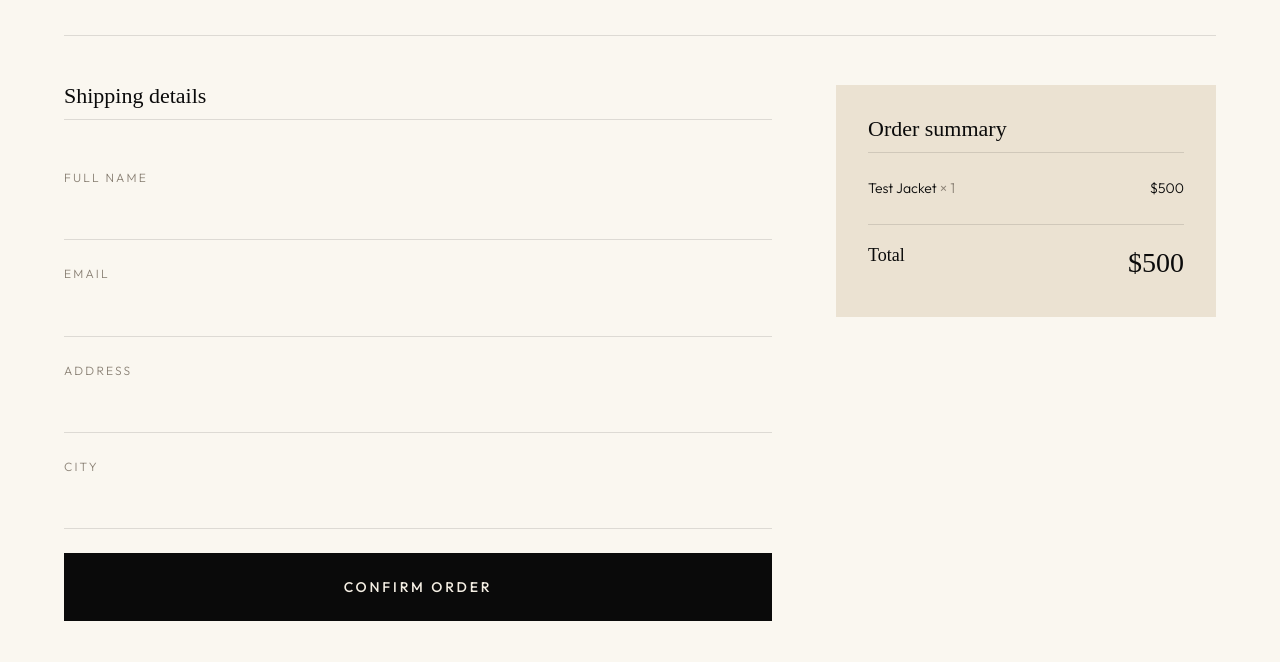
Test: Page commande › affiche une erreur pour chaque champ vide
The image size is (1280, 662).
(page scrolled)
Click the button "Confirm order" at (418, 587), box top-left (64, 553), bottom-right (772, 621)
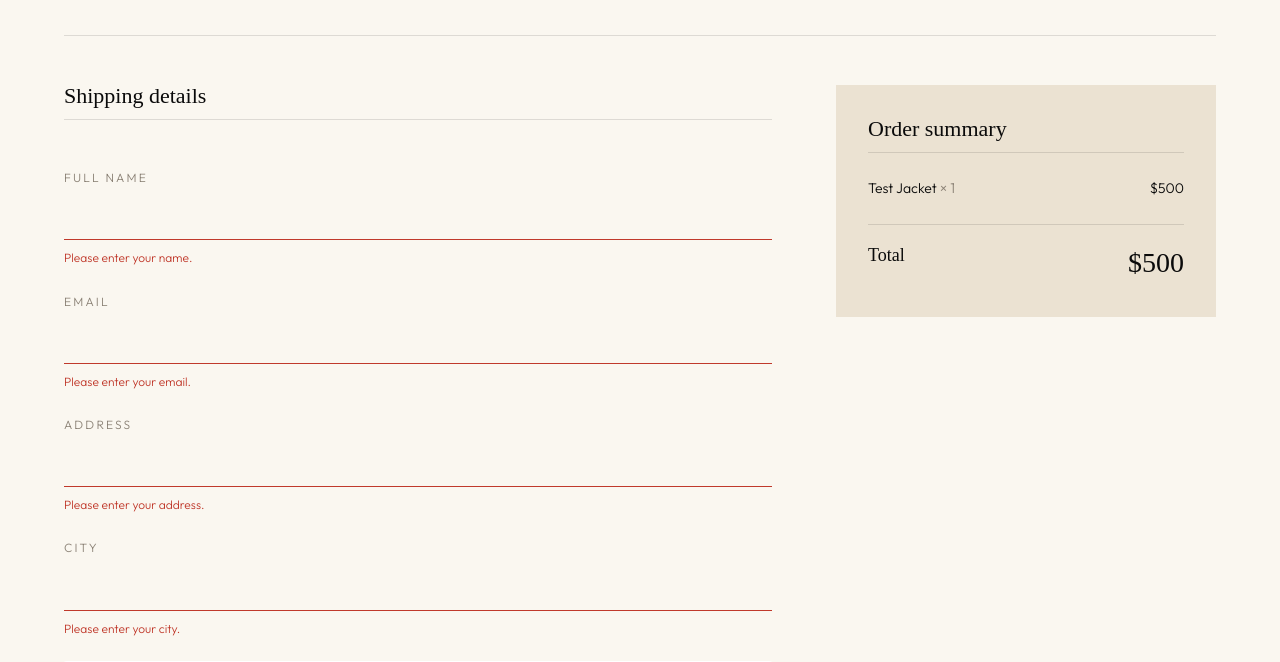
Check: the text "Please enter your name." is shown, box top-left (64, 250), bottom-right (192, 266)
Check: the text "Please enter your email." is shown, box top-left (64, 374), bottom-right (191, 389)
Check: the text "Please enter your address." is shown, box top-left (64, 497), bottom-right (204, 512)
